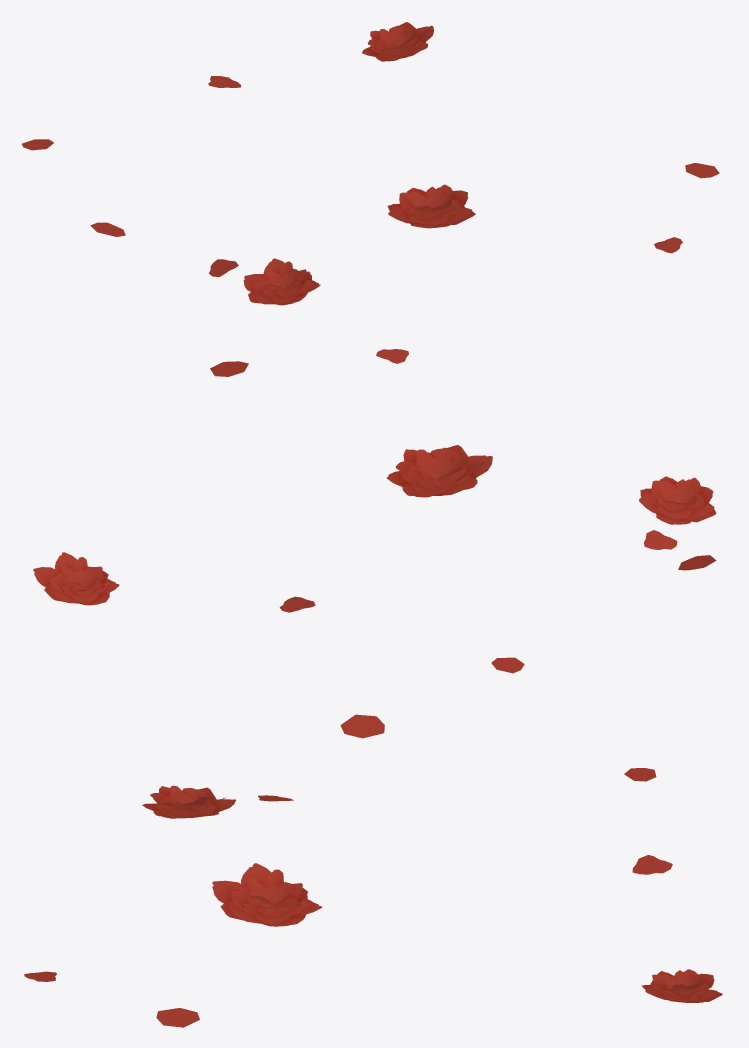
File: SM_Env_Flowers_03.fbx
3 renders of one model, top to bottom at view 1: azimuth 30°, elevation 25°; view 2: azimuth 150°, elevation 25°; view 3: azimuth 270°, elevation 25°, orthographic. The views are drawn at different scales.
Visible parts, largest first — view 1: SM_Env_Flowers_03; view 2: SM_Env_Flowers_03; view 3: SM_Env_Flowers_03.
Part boxes in pixels (x1,y1,x2,y2): SM_Env_Flowers_03: [22, 22, 719, 305]; SM_Env_Flowers_03: [33, 349, 716, 673]; SM_Env_Flowers_03: [24, 714, 722, 1027].
Bounding box in the file's own units: 173 × 11.16 × 170.
